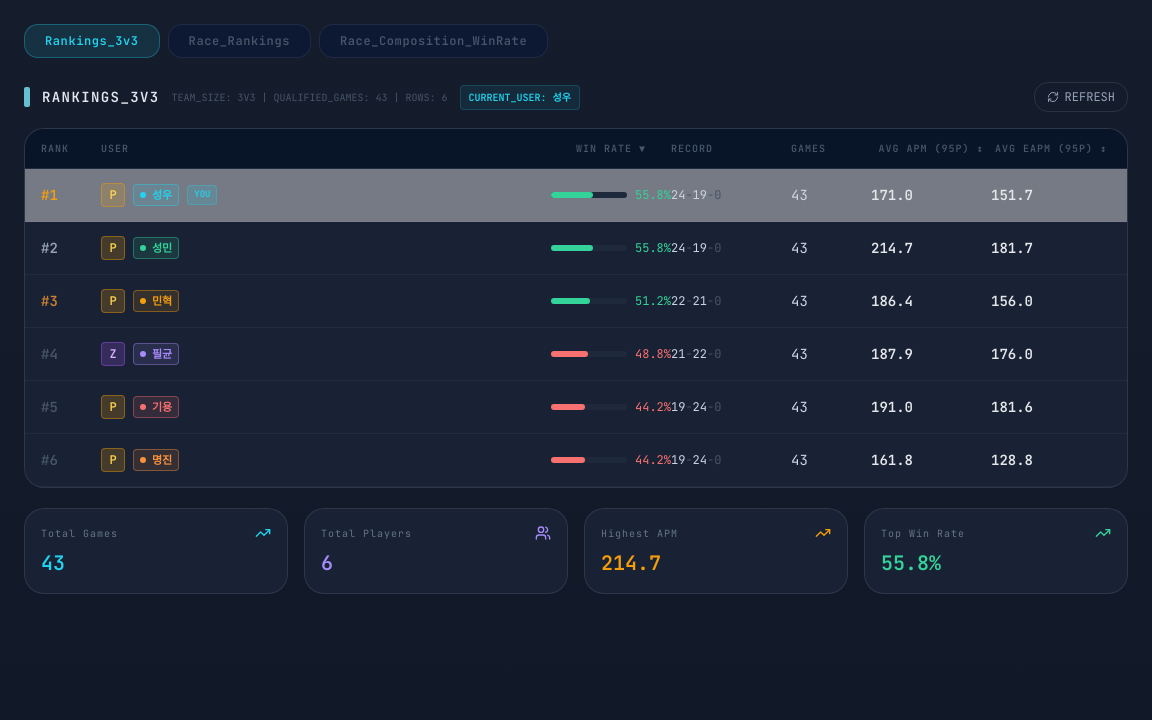
Test: rankings page › toggles ranking sorts, preserves tab state, and uses legacy tie-break rules
Check: the button "WIN RATE ▼" is shown, box 551,141 -> 671,156
Click the button "AVG APM (95P) ↕". click: [931, 148]
box: 871,141 -> 991,156
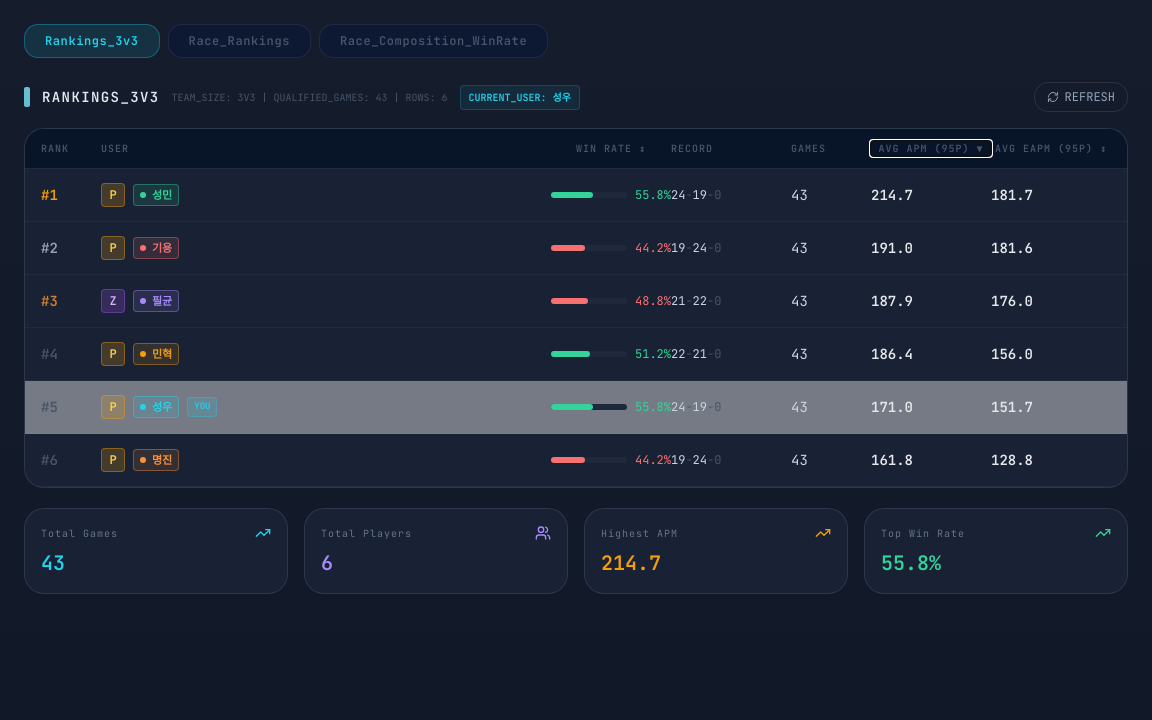
Check: the button "AVG APM (95P) ▼" is shown
Click the button "AVG APM (95P) ▼". click: [931, 148]
box: 871,141 -> 991,156
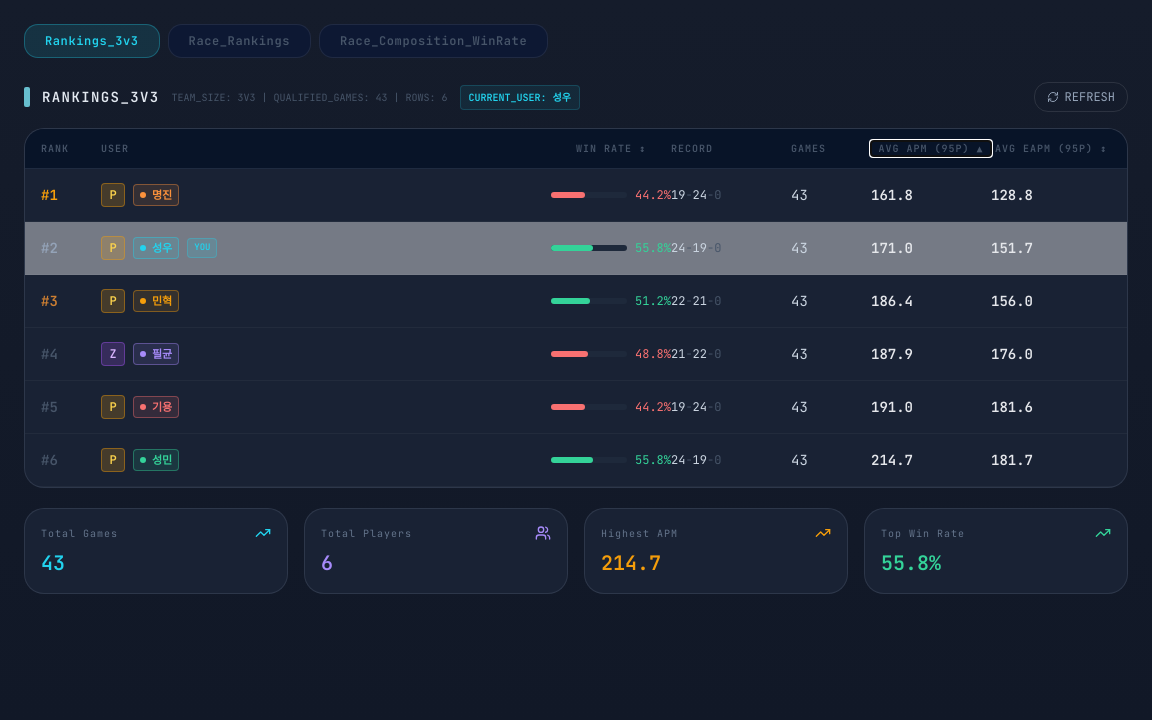
Check: the button "AVG APM (95P) ▲" is shown, box 871,141 -> 991,156
Click the button "Race_Composition_WinRate". click: [434, 41]
box: 319,24 -> 548,58
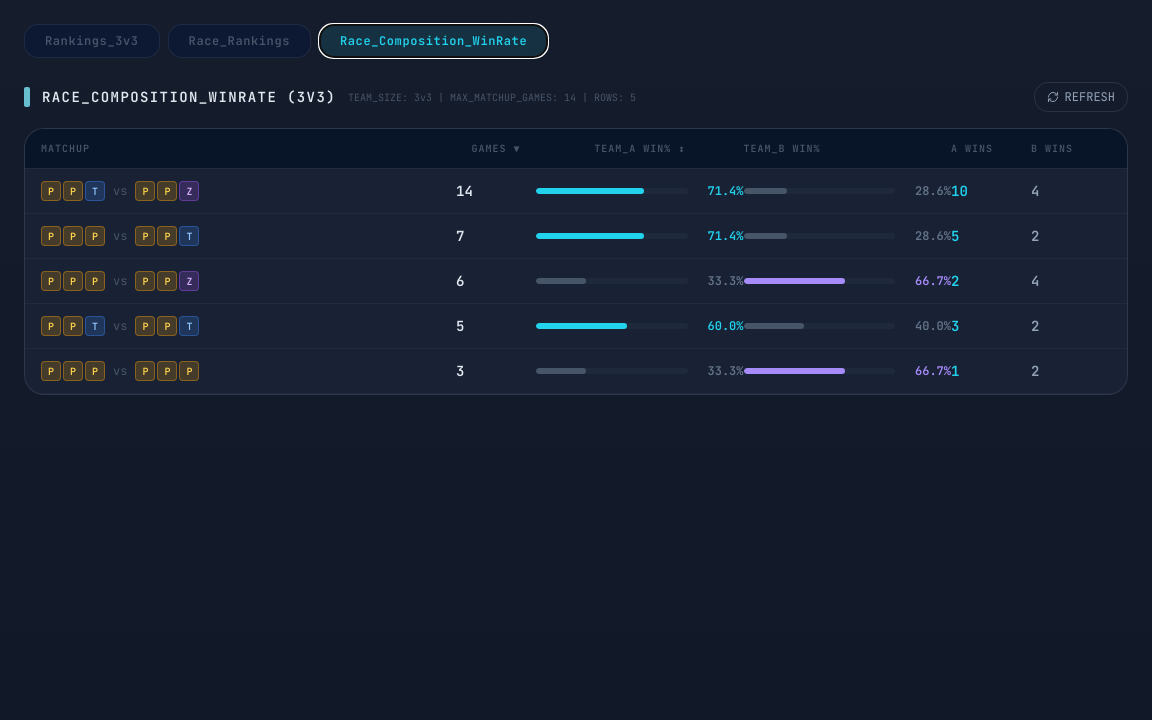
Check: the heading "Race_Composition_WinRate (3v3)" is shown, box 42,87 -> 336,107
Click the button "Rankings_3v3". click: [92, 41]
box: 24,24 -> 160,58
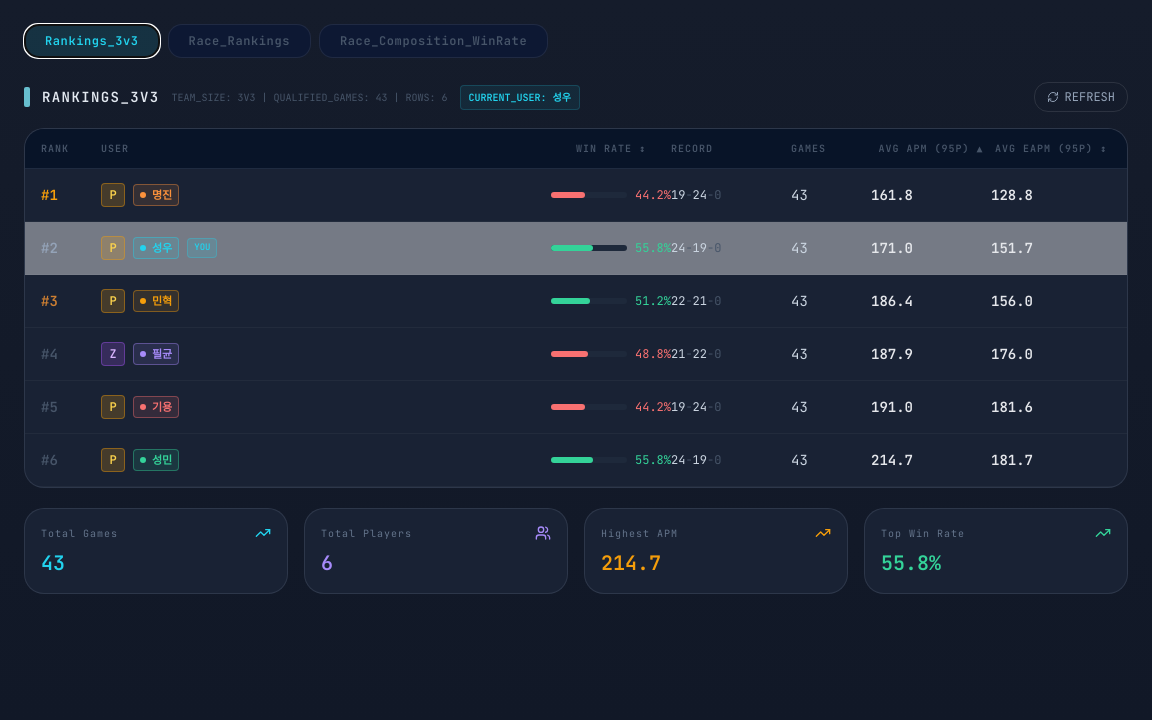
Check: the button "AVG APM (95P) ▲" is shown, box 871,141 -> 991,156
